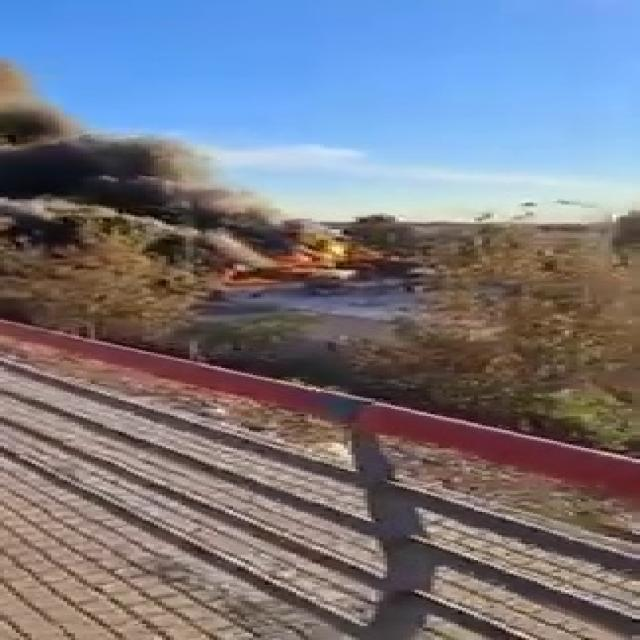Fire: (310, 240, 384, 265)
Smoke: (12, 72, 305, 270)
